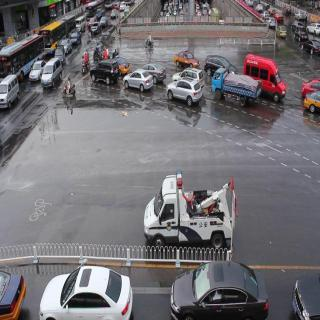BigCar: (1, 34, 42, 85), (35, 14, 76, 46)
Car: (137, 168, 252, 268), (160, 247, 274, 320), (38, 250, 136, 320), (242, 47, 287, 99), (168, 72, 203, 111), (88, 52, 119, 86), (203, 52, 236, 79), (34, 62, 66, 89), (2, 71, 23, 112), (171, 43, 199, 70), (173, 61, 202, 87), (124, 70, 150, 99), (139, 60, 167, 86), (106, 49, 128, 75), (29, 58, 46, 90), (57, 33, 73, 57), (52, 48, 66, 62)
